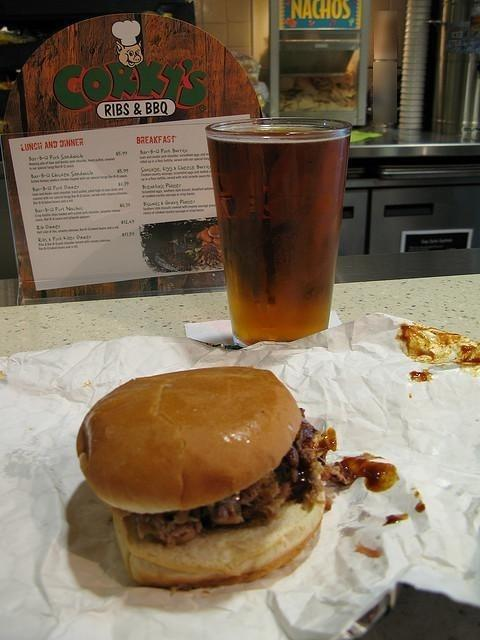glass-normal: (203, 115, 355, 345)
